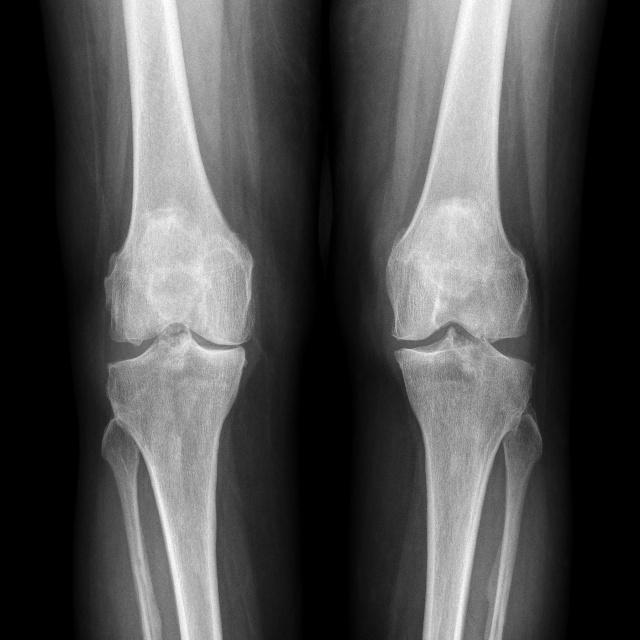Knee: (99, 276, 252, 423), (382, 270, 534, 413)
